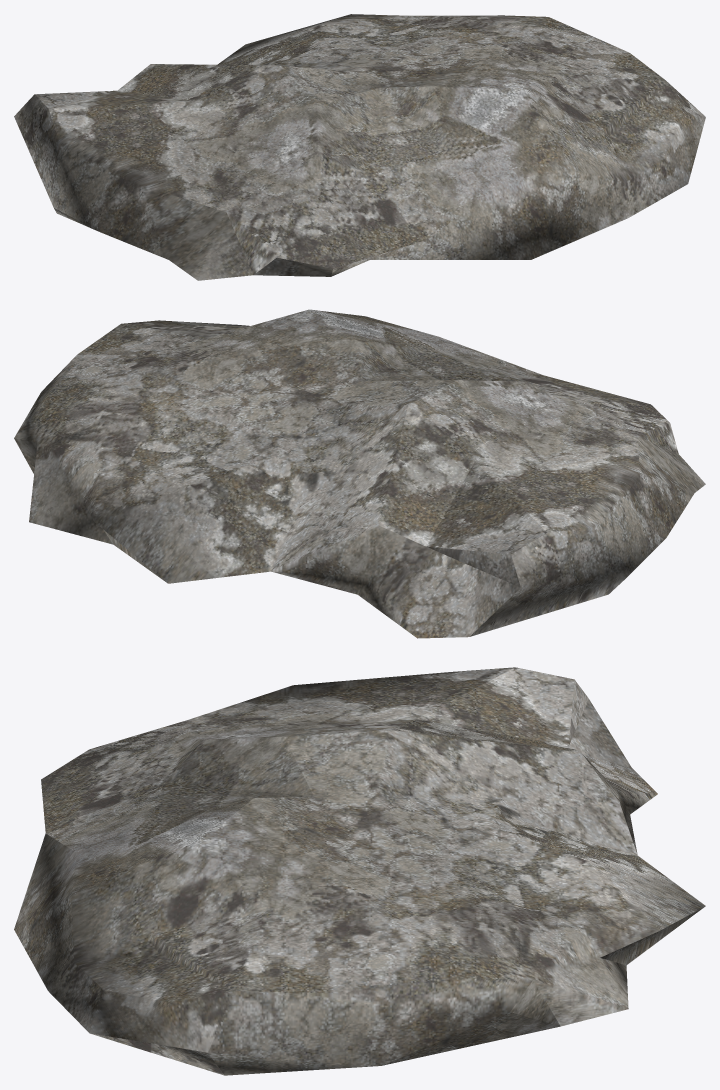
The model's file is stone1.fbx.
3 renders of one model, top to bottom at view 1: azimuth 30°, elevation 25°; view 2: azimuth 150°, elevation 25°; view 3: azimuth 270°, elevation 25°, orthographic. The views are drawn at different scales.
Visible parts, largest first — view 1: stone_1; view 2: stone_1; view 3: stone_1.
Boxes of the visible parts, <box> form: stone_1: <box>14,14,705,280</box>; stone_1: <box>14,309,705,638</box>; stone_1: <box>14,667,705,1075</box>.
Size of the model in its own units: 20.57 by 3.9 by 17.36.
